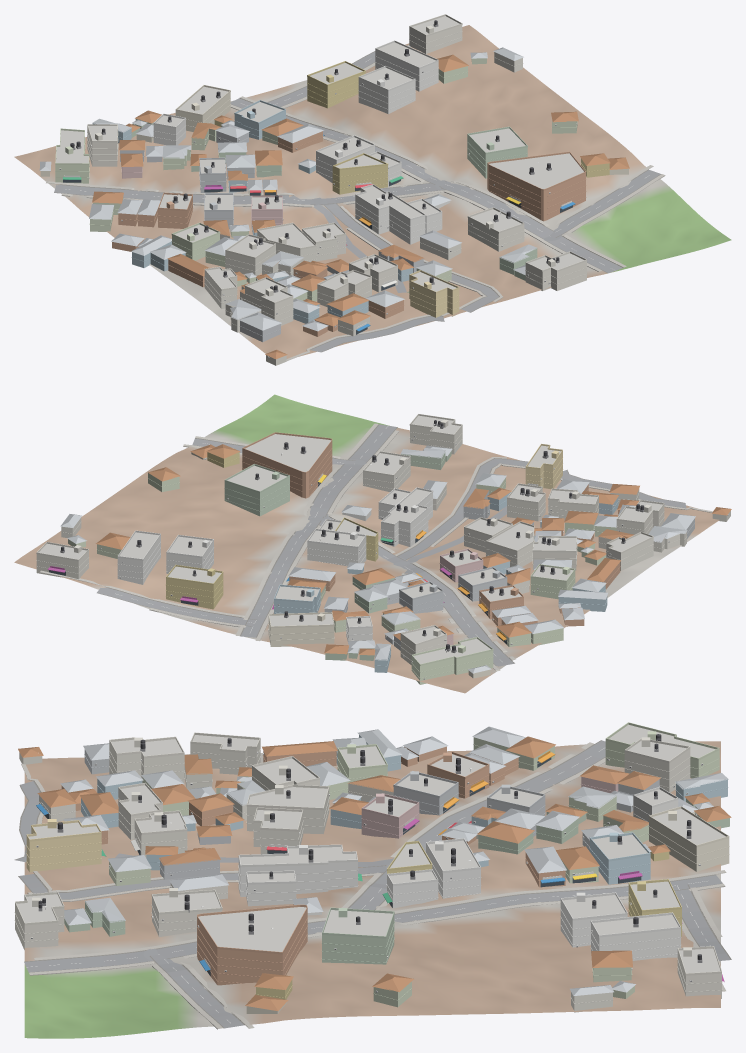
The picture shows the model from 3 angles, top to bottom: view 1: azimuth 30°, elevation 25°; view 2: azimuth 150°, elevation 25°; view 3: azimuth 270°, elevation 25°; orthographic projection. The views are drawn at different scales.
Visible parts, largest first — view 1: Buildings-col, Terrain-col, Details, Roads-col, Sidewalks-col; view 2: Buildings-col, Terrain-col, Details, Roads-col, Sidewalks-col; view 3: Buildings-col, Terrain-col, Details, Roads-col, Sidewalks-col.
Part boxes in pixels (bbox=[...]): Buildings-col: bbox=[39, 16, 629, 365]; Terrain-col: bbox=[14, 25, 731, 358]; Details: bbox=[50, 14, 609, 357]; Roads-col: bbox=[54, 51, 661, 352]; Sidewalks-col: bbox=[46, 45, 665, 360]; Buildings-col: bbox=[36, 415, 731, 684]; Terrain-col: bbox=[14, 394, 719, 693]; Details: bbox=[36, 414, 728, 679]; Roads-col: bbox=[97, 424, 686, 666]; Sidewalks-col: bbox=[39, 423, 712, 671]; Buildings-col: bbox=[15, 724, 731, 1013]; Terrain-col: bbox=[24, 741, 720, 1038]; Details: bbox=[14, 722, 729, 1003]; Roads-col: bbox=[14, 740, 731, 1028]; Sidewalks-col: bbox=[21, 742, 726, 1029].
Bounding box in the file's own units: 267 × 30.84 × 264.
